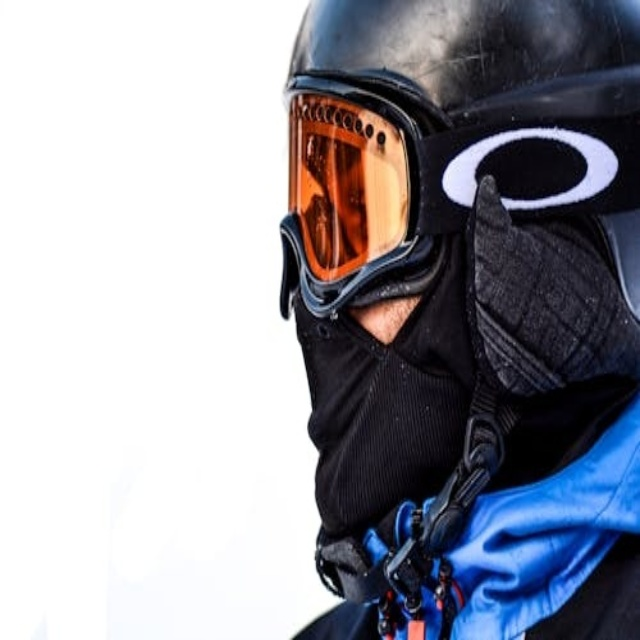Gafas: (278, 59, 636, 316)
